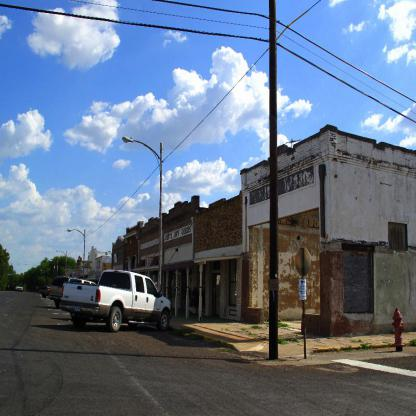Car: (72, 272, 169, 335), (46, 276, 96, 308)
Truck: (58, 273, 176, 335)
